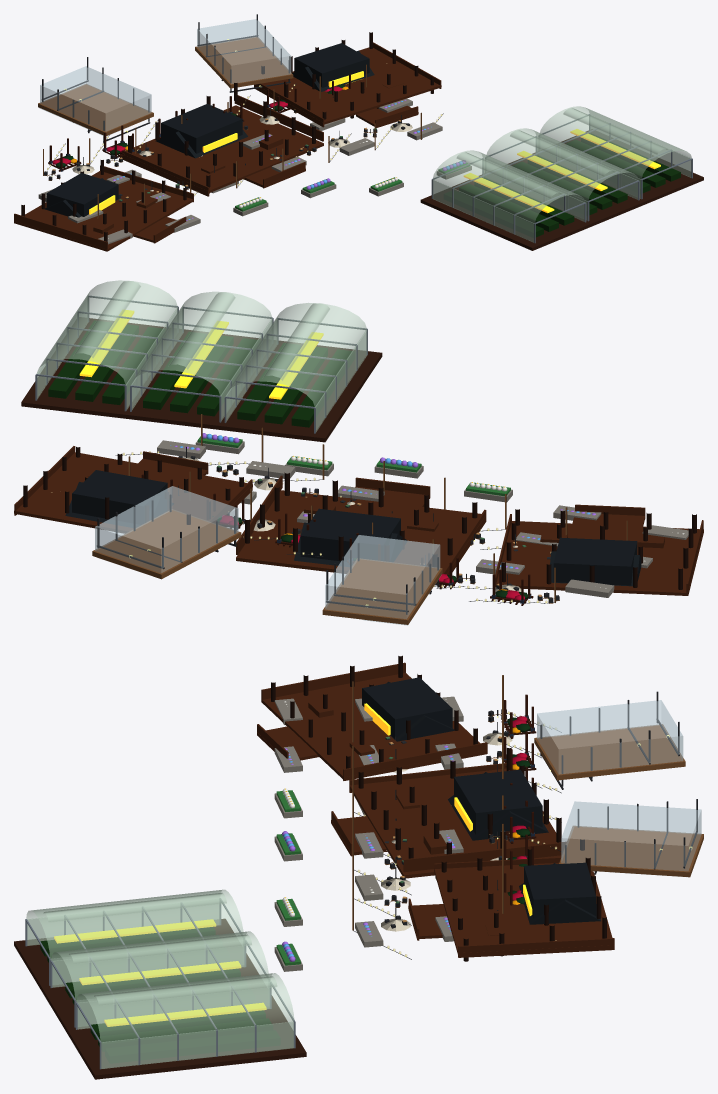
File: ul_w4_01_tui_mo_to_garden_cafe_sao_nam.glb
3 views of the same model, one above another, from view 1: azimuth 30°, elevation 25°; view 2: azimuth 150°, elevation 25°; view 3: azimuth 270°, elevation 25° (orthographic). The views are drawn at different scales.
Parts seen in each view (by area): view 1: node_CauDat_Weathered_Pine_Deck, node_Poly_Film_Blend, node_glasshouse_bistro_pane_blend, node_AFrame_Cafe_Shingle_Roof, node_tui_mo_to_weathered_pine, node_Flower_Hydroponic_Beds, node_Terrace_Soil_Plinth, node_terrace_retaining_granite, node_Stilt_Timber_Columns, node_Galvanized_Steel_Arches, node_vintage_steel_frame_black, node_Dalat_Night_GrowLight_Core (+4 smaller); view 2: node_Poly_Film_Blend, node_CauDat_Weathered_Pine_Deck, node_glasshouse_bistro_pane_blend, node_Flower_Hydroponic_Beds, node_AFrame_Cafe_Shingle_Roof, node_tui_mo_to_weathered_pine, node_Terrace_Soil_Plinth, node_Galvanized_Steel_Arches, node_terrace_retaining_granite, node_Stilt_Timber_Columns, node_vintage_steel_frame_black, node_Dalat_Night_GrowLight_Core (+2 smaller); view 3: node_Poly_Film_Blend, node_CauDat_Weathered_Pine_Deck, node_glasshouse_bistro_pane_blend, node_AFrame_Cafe_Shingle_Roof, node_tui_mo_to_weathered_pine, node_Flower_Hydroponic_Beds, node_Terrace_Soil_Plinth, node_terrace_retaining_granite, node_Stilt_Timber_Columns, node_Dalat_Night_GrowLight_Core, node_Galvanized_Steel_Arches, node_vintage_steel_frame_black (+4 smaller).
Boxes of the visible parts, x1,y1,x2,y2 form: node_CauDat_Weathered_Pine_Deck: (14,42,441,251); node_Poly_Film_Blend: (432,106,691,242); node_glasshouse_bistro_pane_blend: (39,19,291,135); node_AFrame_Cafe_Shingle_Roof: (44,43,374,217); node_tui_mo_to_weathered_pine: (38,37,421,218); node_Flower_Hydroponic_Beds: (444,133,680,237); node_Terrace_Soil_Plinth: (420,130,703,250); node_terrace_retaining_granite: (38,98,471,244); node_Stilt_Timber_Columns: (21,32,433,241); node_Galvanized_Steel_Arches: (431,114,692,243); node_vintage_steel_frame_black: (41,14,443,201); node_Dalat_Night_GrowLight_Core: (463,129,660,213); node_Poly_Film_Blend: (36,280,367,431); node_CauDat_Weathered_Pine_Deck: (14,446,703,595); node_glasshouse_bistro_pane_blend: (95,486,440,625); node_Flower_Hydroponic_Beds: (48,320,354,427); node_AFrame_Cafe_Shingle_Roof: (65,470,641,586); node_tui_mo_to_weathered_pine: (92,414,627,624); node_Terrace_Soil_Plinth: (21,318,382,442); node_Galvanized_Steel_Arches: (35,295,367,433); node_terrace_retaining_granite: (157,440,688,597); node_Stilt_Timber_Columns: (23,447,696,589); node_vintage_steel_frame_black: (97,447,559,614); node_Dalat_Night_GrowLight_Core: (79,310,323,399); node_Poly_Film_Blend: (26,889,294,1068); node_CauDat_Weathered_Pine_Deck: (257,662,614,957); node_glasshouse_bistro_pane_blend: (537,700,701,877); node_AFrame_Cafe_Shingle_Roof: (362,677,600,924); node_tui_mo_to_weathered_pine: (352,675,703,930); node_Flower_Hydroponic_Beds: (40,927,280,1063); node_Terrace_Soil_Plinth: (14,918,306,1079); node_terrace_retaining_granite: (274,696,463,971); node_Stilt_Timber_Columns: (271,655,606,961); node_Dalat_Night_GrowLight_Core: (54,919,266,1026); node_Galvanized_Steel_Arches: (25,898,295,1069); node_vintage_steel_frame_black: (353,691,697,959).
Size of the model in its own units: 84.97 by 9.45 by 64.44.
